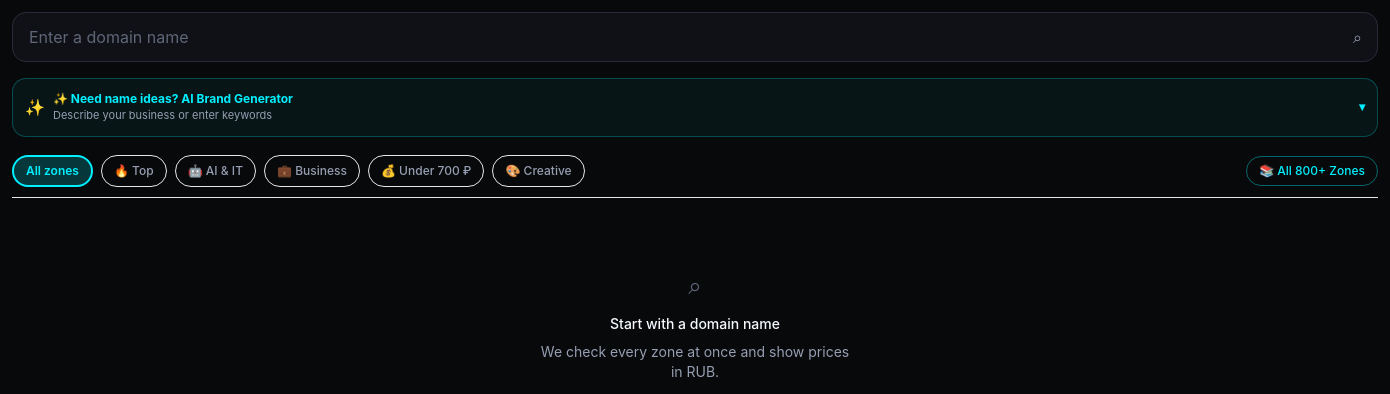
Scenario: SearchScreen › reports an invalid name distinctly from a server outage
Type "x" into the field labelled "Enter a domain name" at (695, 37), box [12,12,1378,62]
Then press Enter
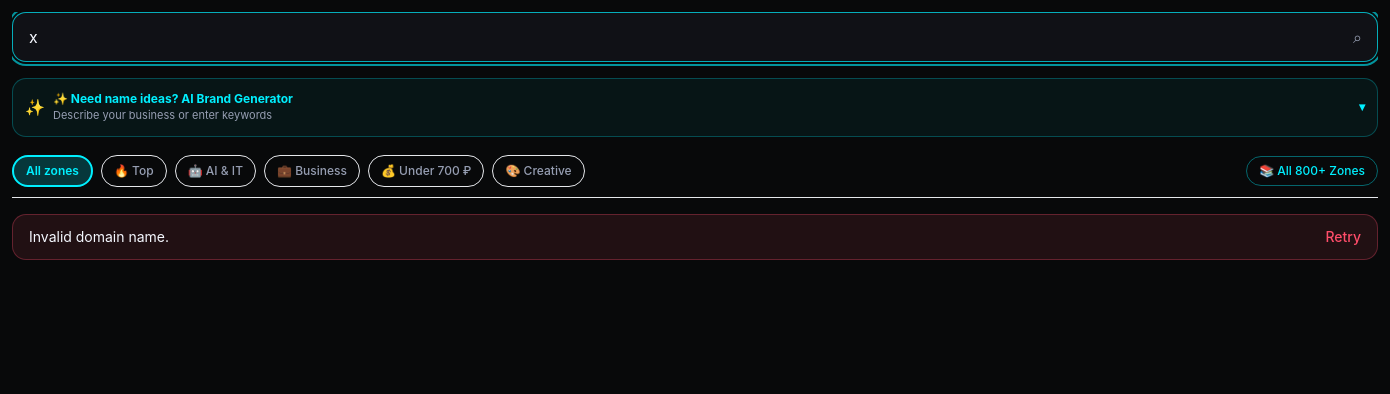
Result: the message shows "Invalid domain name" at [29,228,169,244]
